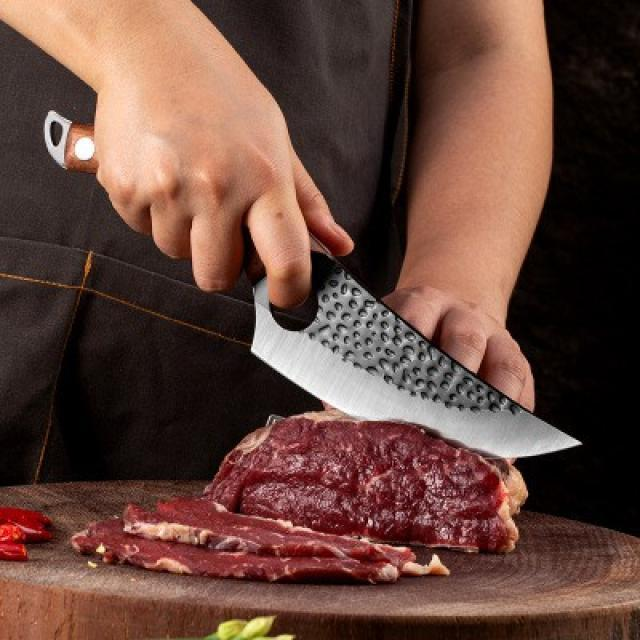Pisau: (234, 244, 594, 467)
